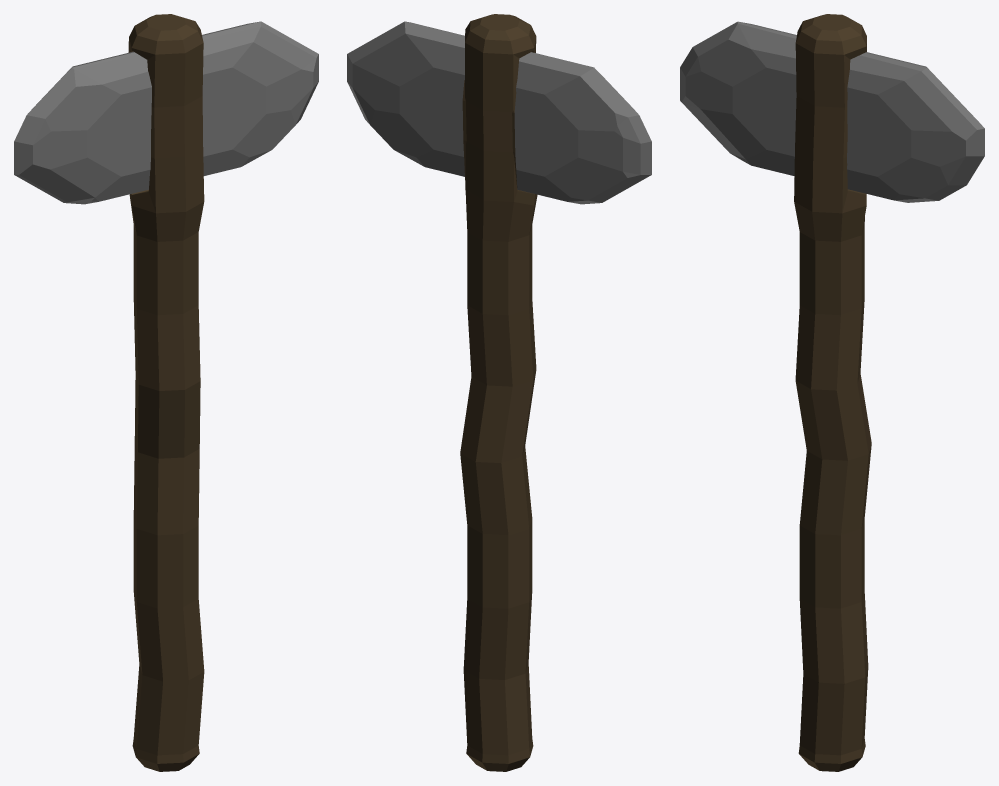
Rendered from stone axe.fbx.
3 renders of one model, left to right at view 1: azimuth 30°, elevation 25°; view 2: azimuth 150°, elevation 25°; view 3: azimuth 330°, elevation 25°, orthographic.
Visible parts, largest first — view 1: Plane, Cube; view 2: Plane, Cube; view 3: Plane, Cube.
Part boxes in pixels (x1,y1,x2,y2): Plane: [128, 14, 204, 771]; Cube: [14, 21, 318, 204]; Plane: [460, 14, 537, 771]; Cube: [347, 21, 651, 204]; Plane: [794, 14, 871, 771]; Cube: [680, 21, 984, 202].
Size of the model in its own units: 301 by 698 by 68.45.
